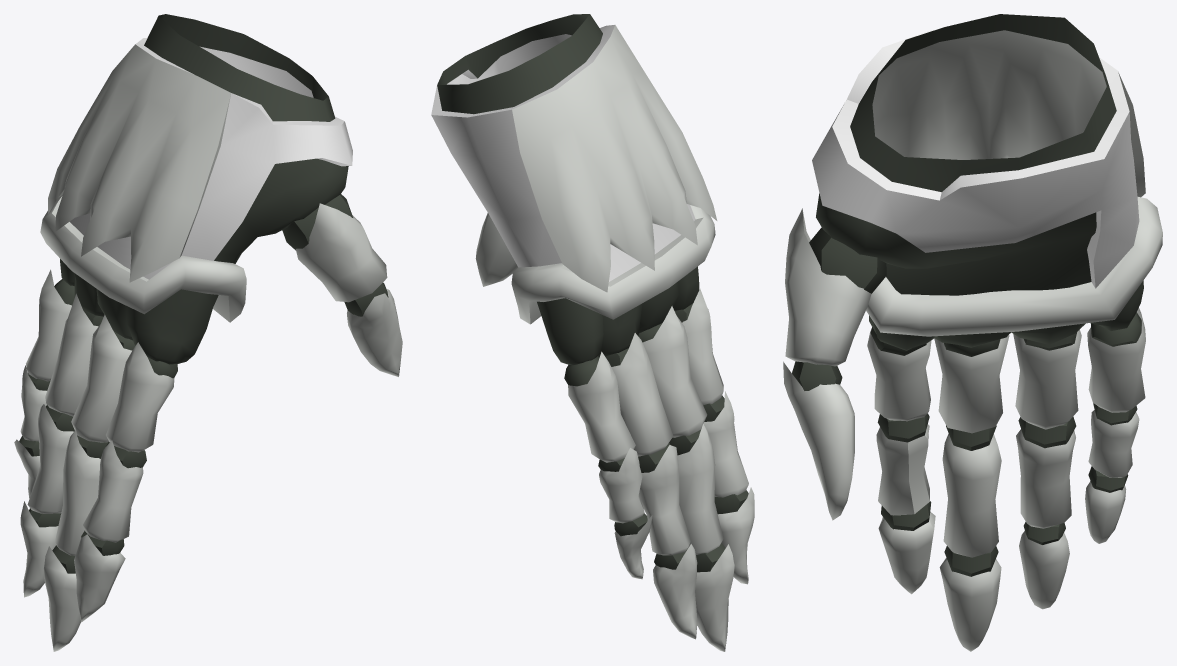
File: ralph_righthand.fbx
The picture shows the model from 3 angles, left to right: view 1: azimuth 30°, elevation 25°; view 2: azimuth 150°, elevation 25°; view 3: azimuth 270°, elevation 25°; orthographic projection. The views are drawn at different scales.
Parts seen in each view (by area): view 1: rhand; view 2: rhand; view 3: rhand.
Part boxes in pixels (x1,y1,x2,y2): rhand: (14,14,402,651); rhand: (431,14,754,651); rhand: (783,14,1162,651).
Bounding box in the file's own units: 109 × 197 × 94.41.
